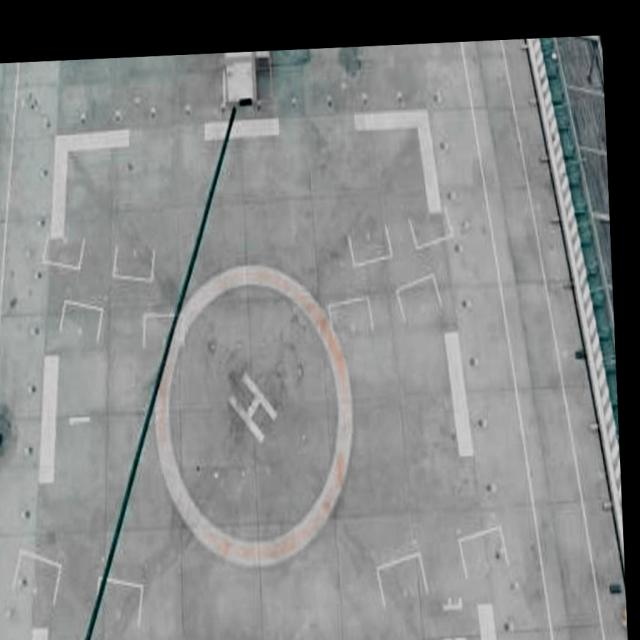helipad: (146, 257, 362, 574)
